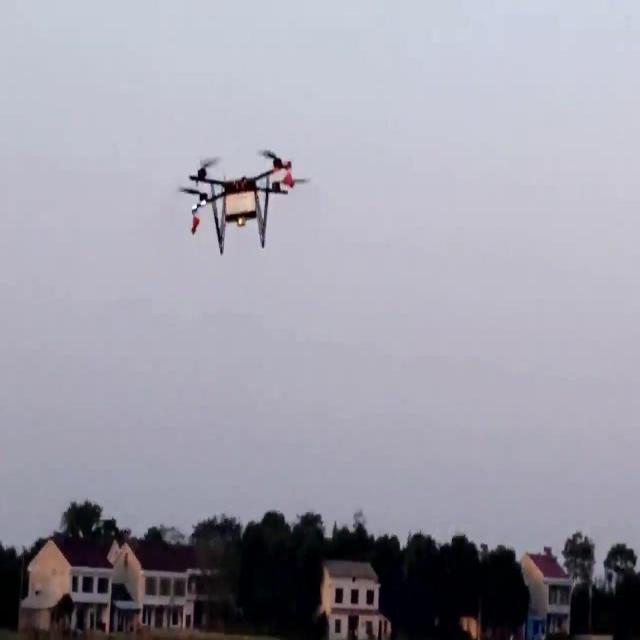drone: (180, 146, 295, 258)
